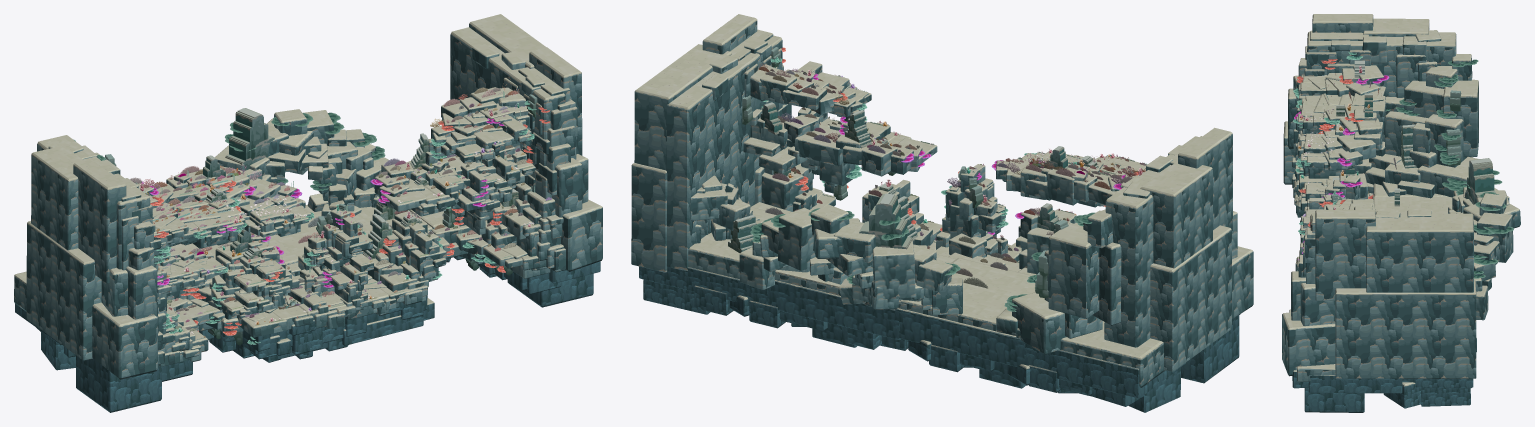
3 views of the same model, side by side, from view 1: azimuth 30°, elevation 25°; view 2: azimuth 150°, elevation 25°; view 3: azimuth 270°, elevation 25° (orthographic). The views are drawn at different scales.
Size of the model in its own units: 150 by 63.62 by 70.95.
31 materials, 31 textured.
